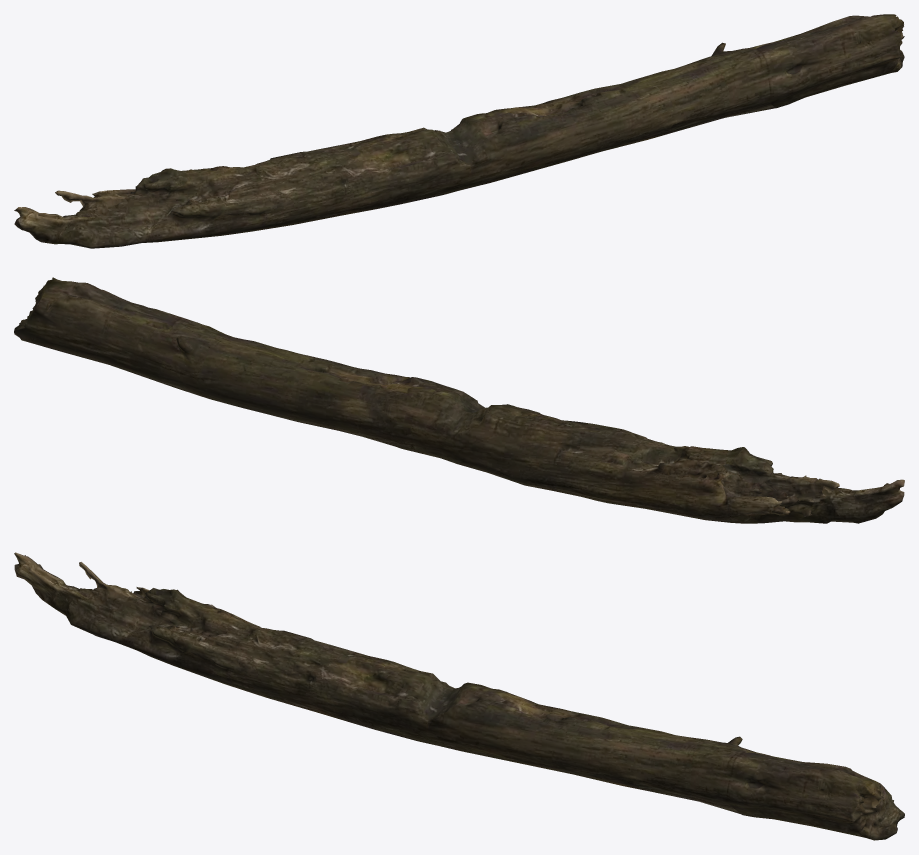
The model's file is dead_tree_trunk.glb.
3 renders of one model, top to bottom at view 1: azimuth 30°, elevation 25°; view 2: azimuth 150°, elevation 25°; view 3: azimuth 330°, elevation 25°, orthographic.
Visible parts, largest first — view 1: dead_tree_trunk; view 2: dead_tree_trunk; view 3: dead_tree_trunk.
Boxes of the visible parts, x1,y1,x2,y2 form: dead_tree_trunk: (14,14,904,248); dead_tree_trunk: (14,277,904,523); dead_tree_trunk: (14,552,904,840).
Size of the model in its own units: 3.05 by 0.2898 by 0.2771.
1 material, 1 textured.
